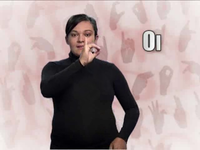oi: (80, 36, 101, 68)
